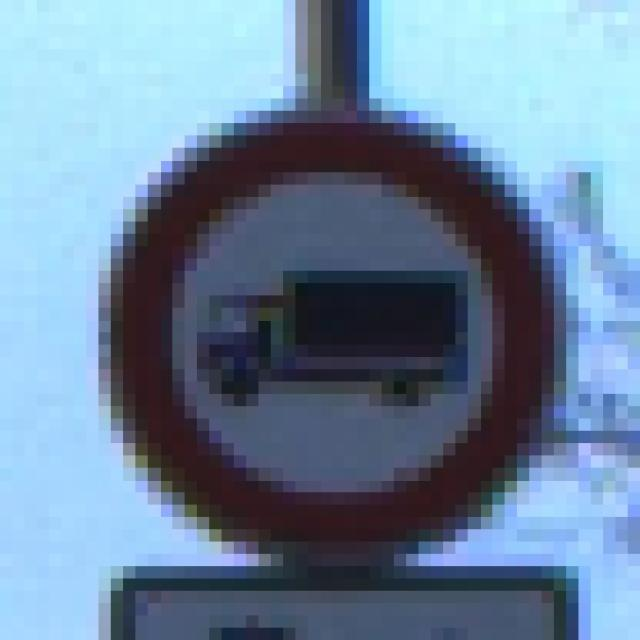Truck traffic is prohibited: (86, 86, 591, 591)
